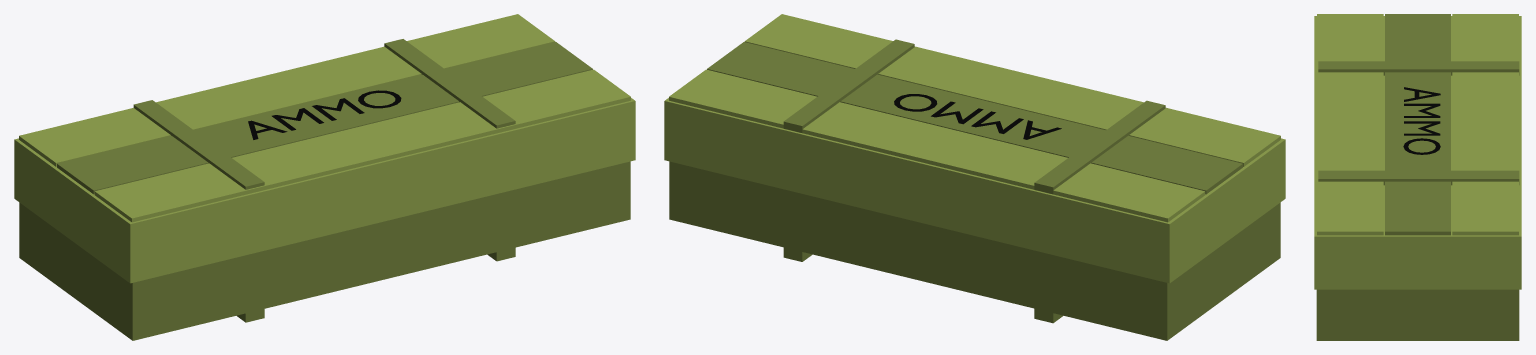
The model's file is Caja de municion.fbx.
3 views of the same model, side by side, from view 1: azimuth 30°, elevation 25°; view 2: azimuth 150°, elevation 25°; view 3: azimuth 270°, elevation 25° (orthographic). The views are drawn at different scales.
Parts seen in each view (by area): view 1: Cube; view 2: Cube; view 3: Cube.
Boxes of the visible parts, left/top/right/bottom form: Cube: left=14, top=14, right=635, bottom=340; Cube: left=664, top=14, right=1285, bottom=340; Cube: left=1314, top=14, right=1521, bottom=340.
Size of the model in its own units: 200 by 51.43 by 79.39.
